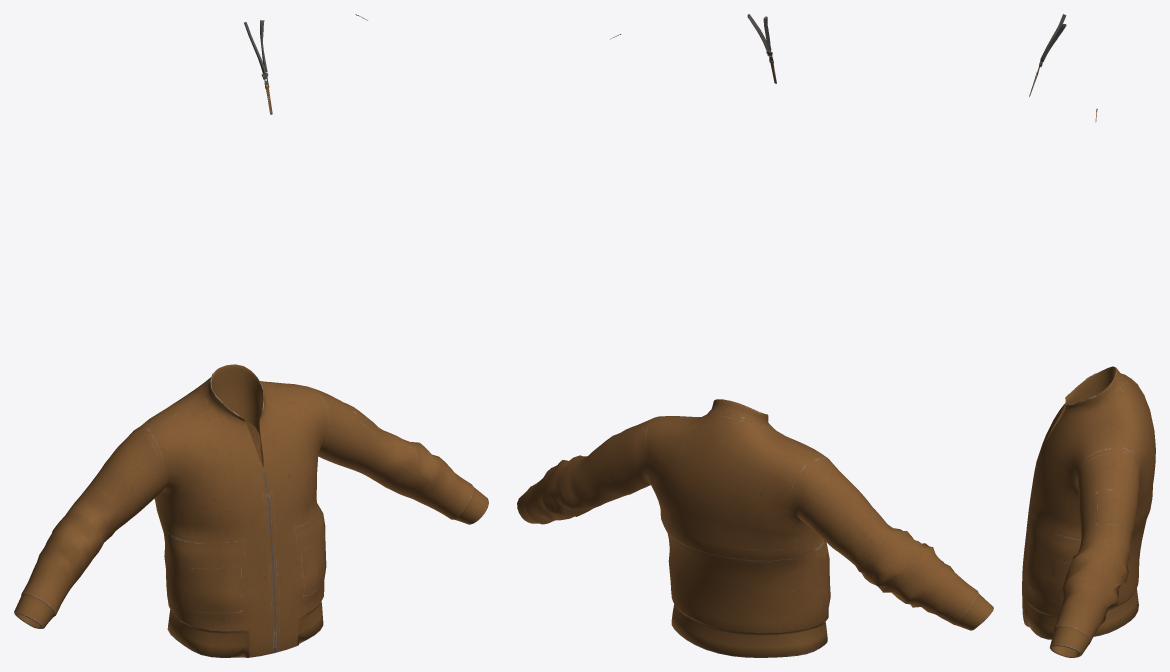
The model's file is wesw001.glb.
3 views of the same model, side by side, from view 1: azimuth 30°, elevation 25°; view 2: azimuth 150°, elevation 25°; view 3: azimuth 270°, elevation 25° (orthographic). The views are drawn at different scales.
Parts seen in each view (by area): view 1: jacket_low; view 2: jacket_low; view 3: jacket_low, zipper_teeth_low.
Boxes of the visible parts, <box> form: jacket_low: <box>14,364,488,657</box>; jacket_low: <box>517,399,993,657</box>; jacket_low: <box>1022,366,1155,657</box>; zipper_teeth_low: <box>1040,14,1066,61</box>.
Size of the model in its own units: 0.0552 by 0.0695 by 0.0141.
1 material, 1 textured.
